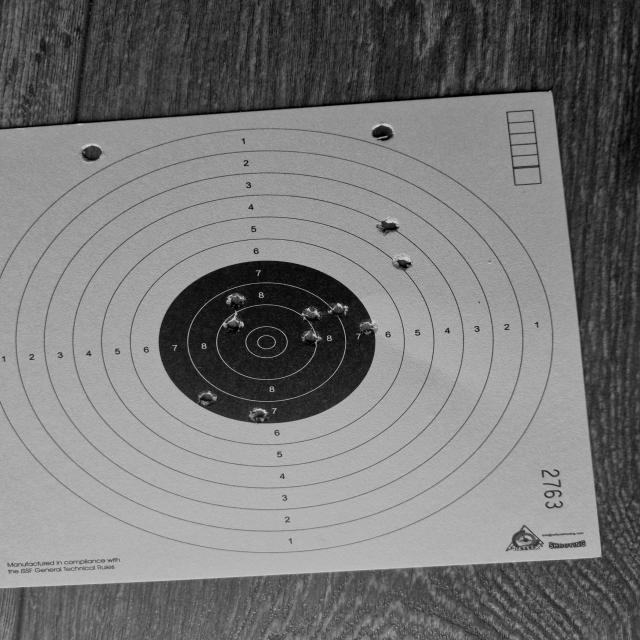4: (376, 219, 401, 235)
5: (392, 256, 414, 270)
7: (248, 408, 269, 424), (198, 391, 217, 406), (359, 322, 378, 334)
8: (327, 303, 350, 318), (226, 292, 246, 308)
9: (223, 310, 244, 332), (301, 306, 323, 323), (302, 330, 322, 345)
Target: (0, 125, 550, 555)
black_contour: (160, 262, 378, 424)
